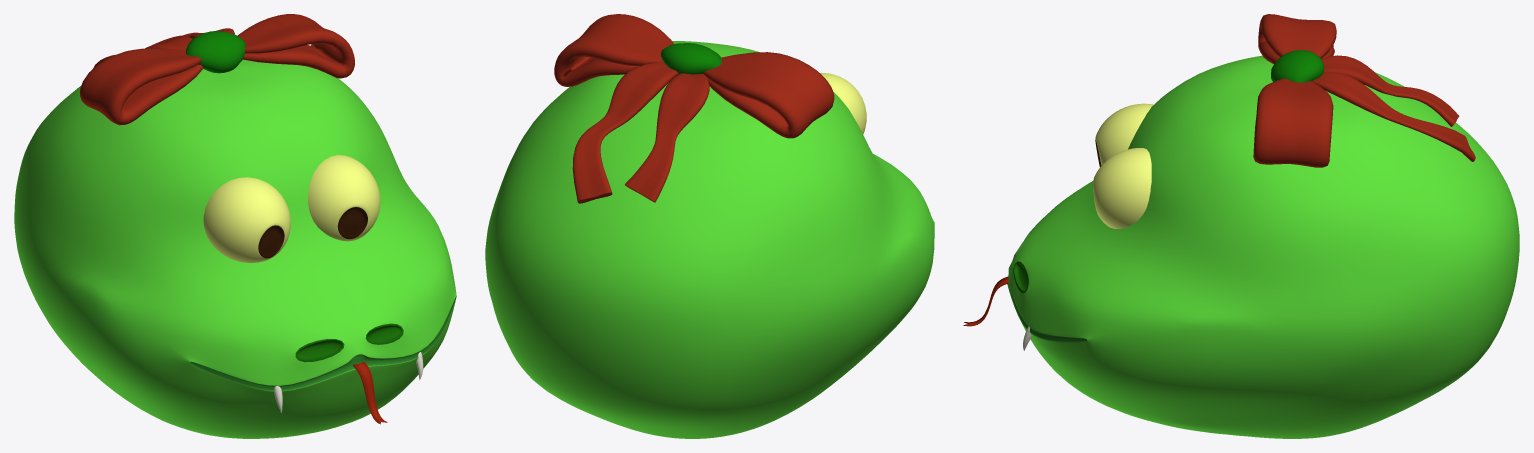
Rendered from MrsSnake_green.fbx.
The picture shows the model from 3 angles, left to right: view 1: azimuth 30°, elevation 25°; view 2: azimuth 150°, elevation 25°; view 3: azimuth 270°, elevation 25°; orthographic projection. The views are drawn at different scales.
Parts seen in each view (by area): view 1: Mrs.Snake_green_normal.001, Hair_ribbon_right1.007, RightEye.017, RightEye.011, Hair_ribbon_left1.007, HairRibbon.006, Tongue.007, Hair_ribbon_right2.007; view 2: Mrs.Snake_green_normal.001, Hair_ribbon_right1.007, Hair_ribbon_left1.007, Hair_ribbon_left2.007, Hair_ribbon_right2.007, HairRibbon.006, RightEye.017; view 3: Mrs.Snake_green_normal.001, Hair_ribbon_left1.007, RightEye.011, Hair_ribbon_left2.007, Hair_ribbon_right1.007, Hair_ribbon_right2.007, RightEye.017, HairRibbon.006.
Part boxes in pixels (<box>): Mrs.Snake_green_normal.001: <box>14,59,456,438</box>; Hair_ribbon_right1.007: <box>80,48,203,125</box>; RightEye.017: <box>203,177,290,262</box>; RightEye.011: <box>308,155,380,241</box>; Hair_ribbon_left1.007: <box>237,14,354,78</box>; HairRibbon.006: <box>186,31,245,73</box>; Tongue.007: <box>353,362,387,424</box>; Hair_ribbon_right2.007: <box>93,36,192,68</box>; Mrs.Snake_green_normal.001: <box>485,41,934,438</box>; Hair_ribbon_right1.007: <box>703,52,834,138</box>; Hair_ribbon_left1.007: <box>554,14,673,86</box>; Hair_ribbon_left2.007: <box>572,62,678,203</box>; Hair_ribbon_right2.007: <box>624,73,709,202</box>; HairRibbon.006: <box>661,43,721,74</box>; RightEye.017: <box>820,72,866,134</box>; Mrs.Snake_green_normal.001: <box>1007,55,1519,438</box>; Hair_ribbon_left1.007: <box>1253,78,1333,167</box>; RightEye.011: <box>1093,148,1151,228</box>; Hair_ribbon_left2.007: <box>1312,72,1475,161</box>; Hair_ribbon_right1.007: <box>1258,14,1336,63</box>; Hair_ribbon_right2.007: <box>1321,55,1459,126</box>; RightEye.017: <box>1095,103,1153,166</box>; HairRibbon.006: <box>1271,50,1324,82</box>.
Bounding box in the file's own units: 204 × 204 × 281.
